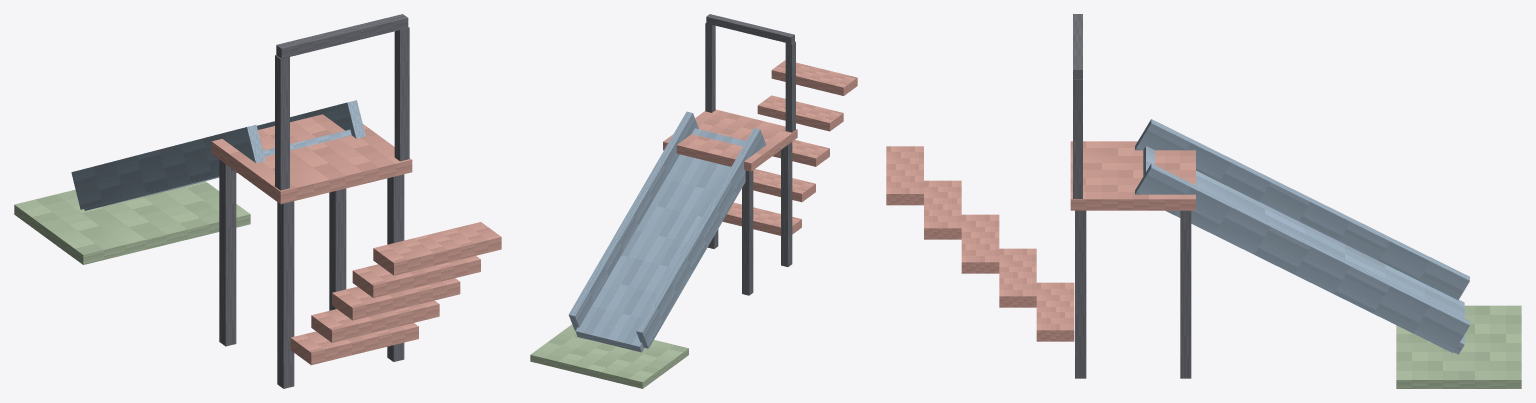
File: pixel-modern-city-street-playground-slide-7eae1183__29055.glb
3 renders of one model, left to right at view 1: azimuth 30°, elevation 25°; view 2: azimuth 150°, elevation 25°; view 3: azimuth 270°, elevation 25°, orthographic. The views are drawn at different scales.
Visible parts, largest first — view 1: playground-slide; view 2: playground-slide; view 3: playground-slide.
Boxes of the visible parts, left/top/right/bottom form: playground-slide: left=14, top=14, right=501, bottom=388; playground-slide: left=530, top=14, right=857, bottom=388; playground-slide: left=886, top=14, right=1521, bottom=388.
Bounding box in the file's own units: 1.4 × 2.73 × 5.07.
Materials: 4 (4 with a texture image).
